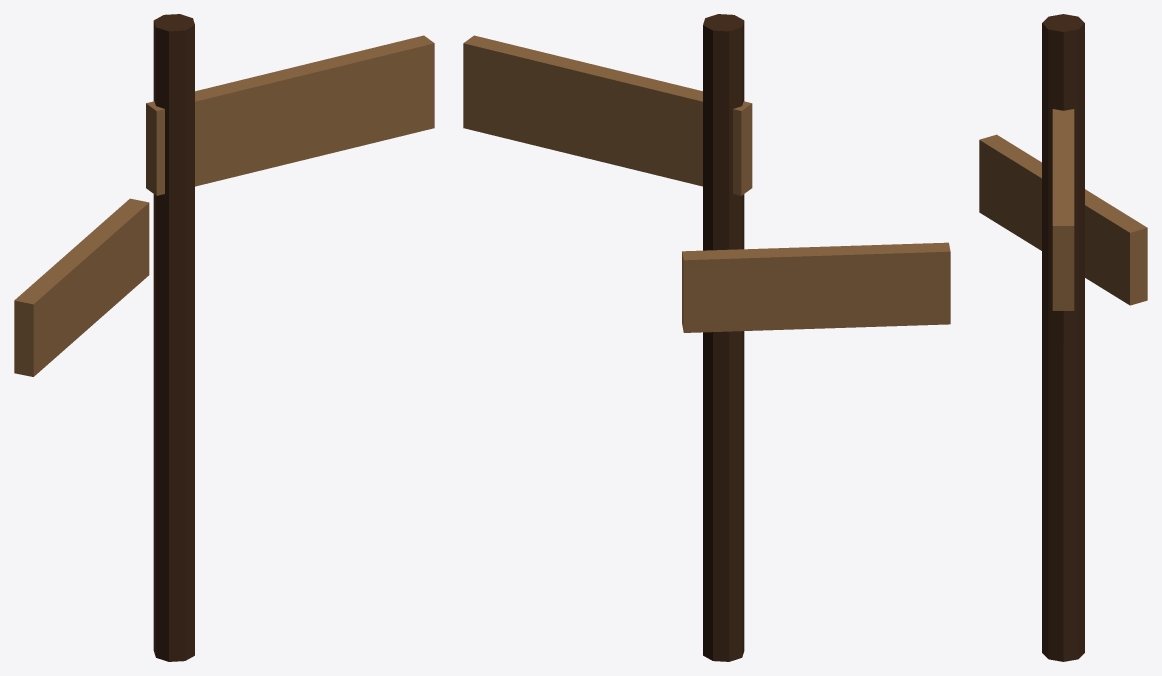
The model's file is SM_GZ_signpost.fbx.
3 views of the same model, side by side, from view 1: azimuth 30°, elevation 25°; view 2: azimuth 150°, elevation 25°; view 3: azimuth 270°, elevation 25° (orthographic).
Visible parts, largest first — view 1: SM_GZ_signpost; view 2: SM_GZ_signpost; view 3: SM_GZ_signpost.
Part boxes in pixels (<box>): SM_GZ_signpost: <box>14,14,434,661</box>; SM_GZ_signpost: <box>463,14,950,661</box>; SM_GZ_signpost: <box>979,14,1147,661</box>.
Bounding box in the file's own units: 194 × 260 × 63.07.
